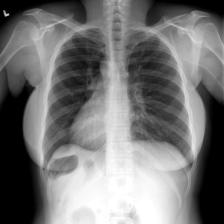normal: (35, 18, 198, 183)
